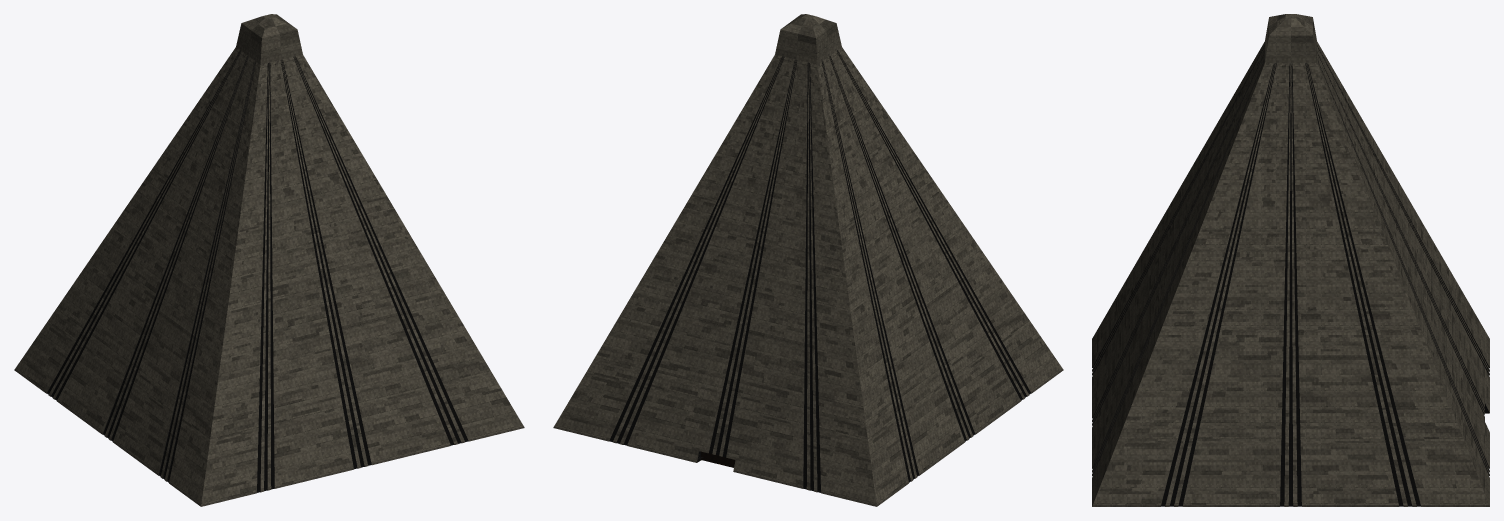
Rendered from wallace-high.glb.
The picture shows the model from 3 angles, left to right: view 1: azimuth 30°, elevation 25°; view 2: azimuth 150°, elevation 25°; view 3: azimuth 270°, elevation 25°; orthographic projection. The views are drawn at different scales.
Parts seen in each view (by area): view 1: wallace; view 2: wallace; view 3: wallace.
Part boxes in pixels (left/top/right/bottom): wallace: left=14, top=14, right=524, bottom=506; wallace: left=553, top=14, right=1063, bottom=506; wallace: left=1092, top=14, right=1489, bottom=506.
Bounding box in the file's own units: 3200 × 3610 × 3200.
Materials: 3 (1 with a texture image).
